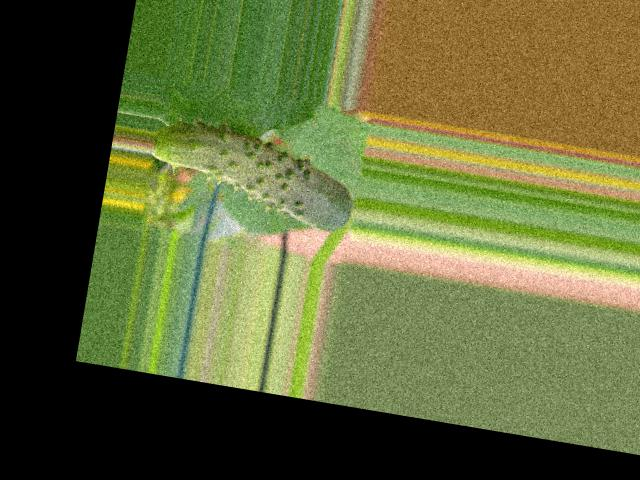cucumber: (145, 113, 363, 234)
